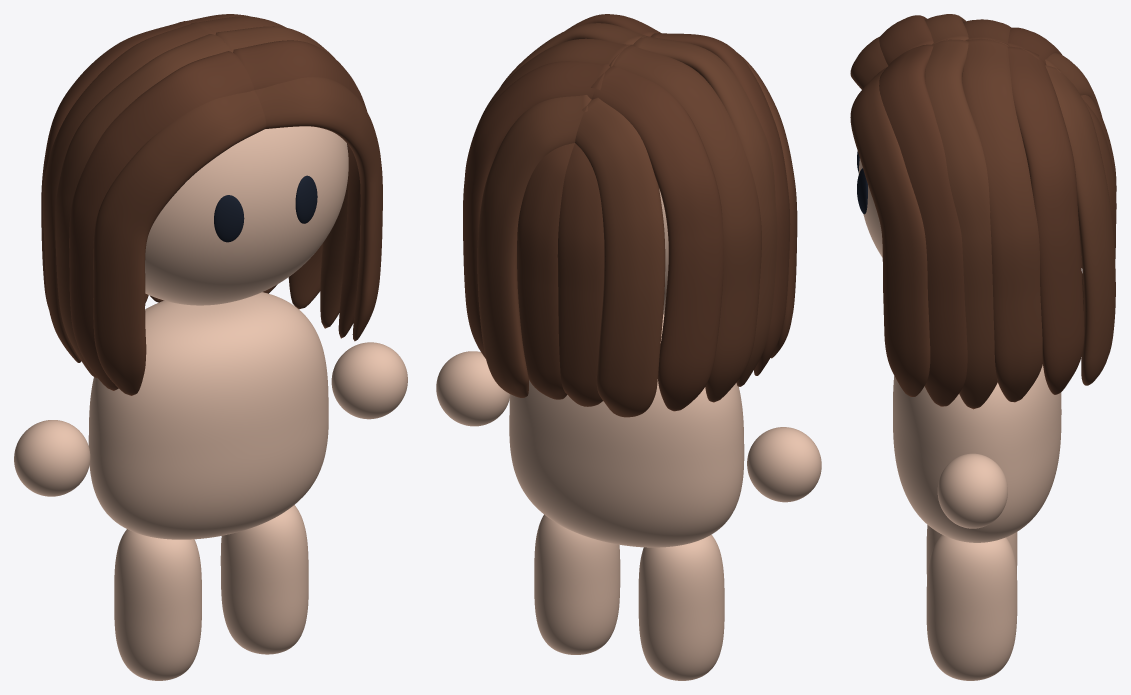
File: Feminine-skin0.glb
3 views of the same model, side by side, from view 1: azimuth 30°, elevation 25°; view 2: azimuth 150°, elevation 25°; view 3: azimuth 270°, elevation 25° (orthographic). The views are drawn at different scales.
Visible parts, largest first — view 1: Skin / compact torso with skirt outline, Skin / soft oval head, Hair / Straight -1 0, Hair / Straight -1 1, Skin / leg -1, Skin / leg 1, Hair / Straight 1 0, Hair / Straight -1 2, Hair / Straight 1 1, Hair / Straight -1 3, Skin / hand 1, Skin / hand -1 (+5 smaller); view 2: Skin / compact torso with skirt outline, Hair / Straight -1 4, Hair / Straight -1 5, Hair / Straight -1 3, Hair / Straight 1 5, Skin / leg -1, Hair / Straight -1 6, Skin / leg 1, Hair / Straight 1 6, Hair / Straight 1 4, Hair / Straight -1 2, Hair / Straight -1 1 (+6 smaller); view 3: Skin / compact torso with skirt outline, Hair / Straight 1 3, Hair / Straight 1 4, Hair / Straight 1 1, Hair / Straight 1 0, Hair / Straight 1 2, Skin / leg 1, Hair / Straight 1 5, Skin / hand 1, Hair / Straight -1 1, Hair / Straight -1 0, Hair / Straight 1 6 (+7 smaller).
Part boxes in pixels (x1=…): Skin / compact torso with skirt outline: x1=88, y1=292, x2=328, y2=539; Skin / soft oval head: x1=145, y1=126, x2=348, y2=305; Hair / Straight -1 0: x1=93, y1=90, x2=266, y2=395; Hair / Straight -1 1: x1=69, y1=51, x2=254, y2=390; Skin / leg -1: x1=114, y1=529, x2=201, y2=680; Skin / leg 1: x1=220, y1=505, x2=308, y2=654; Hair / Straight 1 0: x1=254, y1=77, x2=382, y2=341; Hair / Straight -1 2: x1=55, y1=34, x2=231, y2=378; Hair / Straight 1 1: x1=233, y1=40, x2=366, y2=338; Hair / Straight -1 3: x1=43, y1=22, x2=214, y2=362; Skin / hand 1: x1=331, y1=342, x2=407, y2=419; Skin / hand -1: x1=14, y1=420, x2=90, y2=496; Skin / compact torso with skirt outline: x1=509, y1=314, x2=744, y2=547; Hair / Straight -1 4: x1=591, y1=65, x2=723, y2=411; Hair / Straight -1 5: x1=575, y1=97, x2=665, y2=417; Hair / Straight -1 3: x1=609, y1=44, x2=761, y2=402; Hair / Straight 1 5: x1=477, y1=95, x2=591, y2=397; Skin / leg -1: x1=638, y1=534, x2=724, y2=680; Hair / Straight -1 6: x1=557, y1=143, x2=604, y2=406; Skin / leg 1: x1=534, y1=514, x2=620, y2=654; Hair / Straight 1 6: x1=517, y1=143, x2=574, y2=399; Hair / Straight 1 4: x1=463, y1=61, x2=609, y2=358; Hair / Straight -1 2: x1=633, y1=36, x2=777, y2=386; Hair / Straight -1 1: x1=650, y1=33, x2=790, y2=375; Skin / compact torso with skirt outline: x1=893, y1=364, x2=1061, y2=542; Hair / Straight 1 3: x1=962, y1=38, x2=1042, y2=402; Hair / Straight 1 4: x1=1007, y1=46, x2=1084, y2=394; Hair / Straight 1 1: x1=879, y1=44, x2=967, y2=406; Hair / Straight 1 0: x1=850, y1=67, x2=930, y2=396; Hair / Straight 1 2: x1=925, y1=39, x2=997, y2=409; Skin / leg 1: x1=926, y1=534, x2=1017, y2=680; Hair / Straight 1 5: x1=1045, y1=65, x2=1115, y2=385; Skin / hand 1: x1=937, y1=453, x2=1007, y2=528; Hair / Straight -1 1: x1=879, y1=15, x2=933, y2=65; Hair / Straight -1 0: x1=850, y1=37, x2=888, y2=89; Hair / Straight 1 6: x1=1083, y1=100, x2=1116, y2=259.
Size of the model in its own units: 1.49 by 2.33 by 0.9212.
